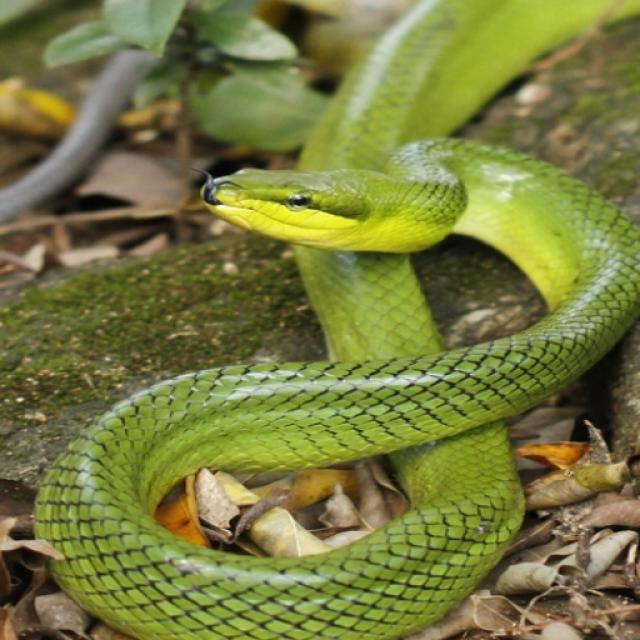snake: (34, 0, 640, 640)
